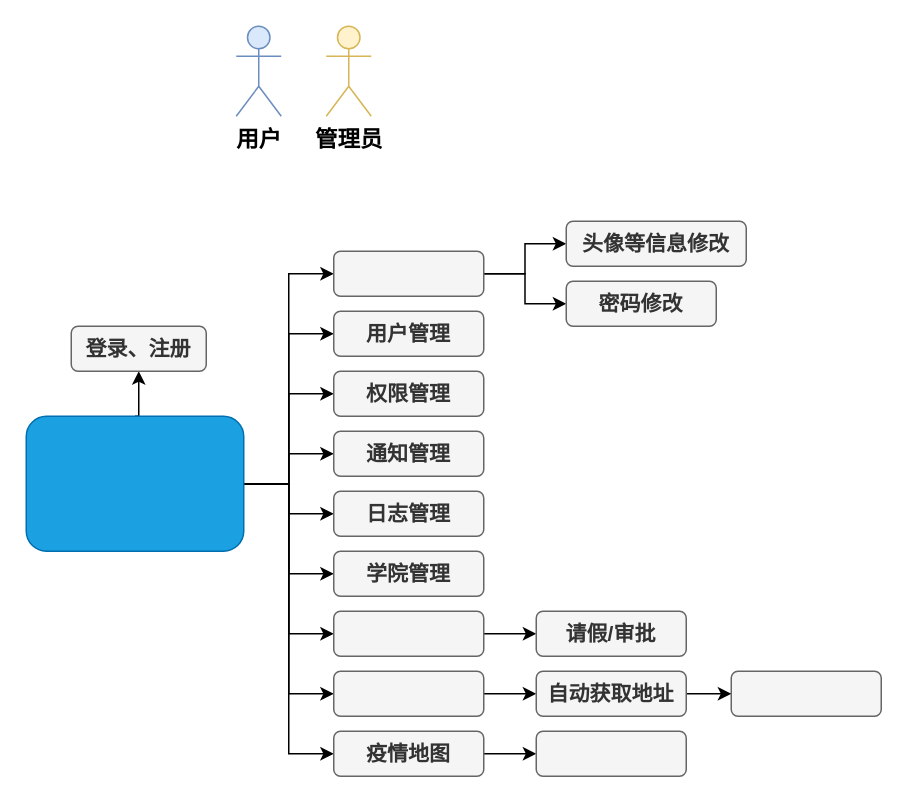
Some shapes in this 908 by 803 pixel diagram are drawn without their labels. The shapes that lost their labels are listed below. From the top down, each one's centre as x and y in pixels, then its label:
At [408,273]: "个人信息".
At [134,483]: "基于爬虫和 百度API的 旅游路线 规划系统".
At [408,633]: "离校管理".
At [408,693]: "每日健康打卡".
At [805,693]: "查询/统计".
At [610,753]: "实时获取".
